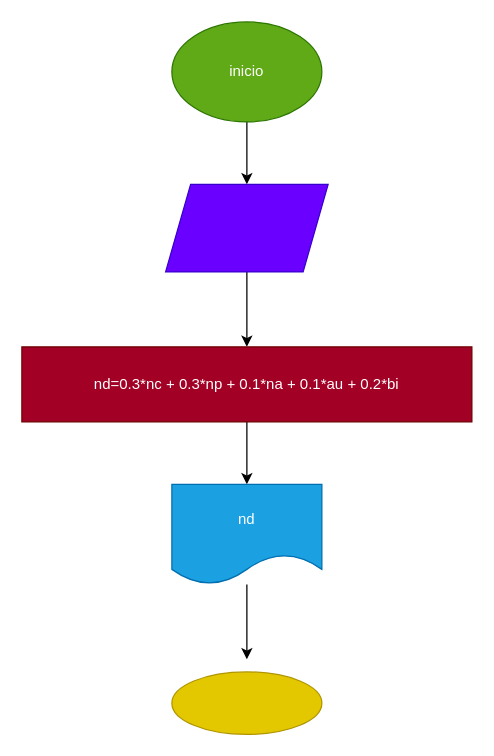
Some shapes in this 494 by 756 pixel diagram are drawn without their labels. The shapes that lost their labels are listed below. From the top down, each one's centre as x and y in pixels, then its label:
the point at 246,227: nc,cp,na,au,bi
the point at 246,702: fin
